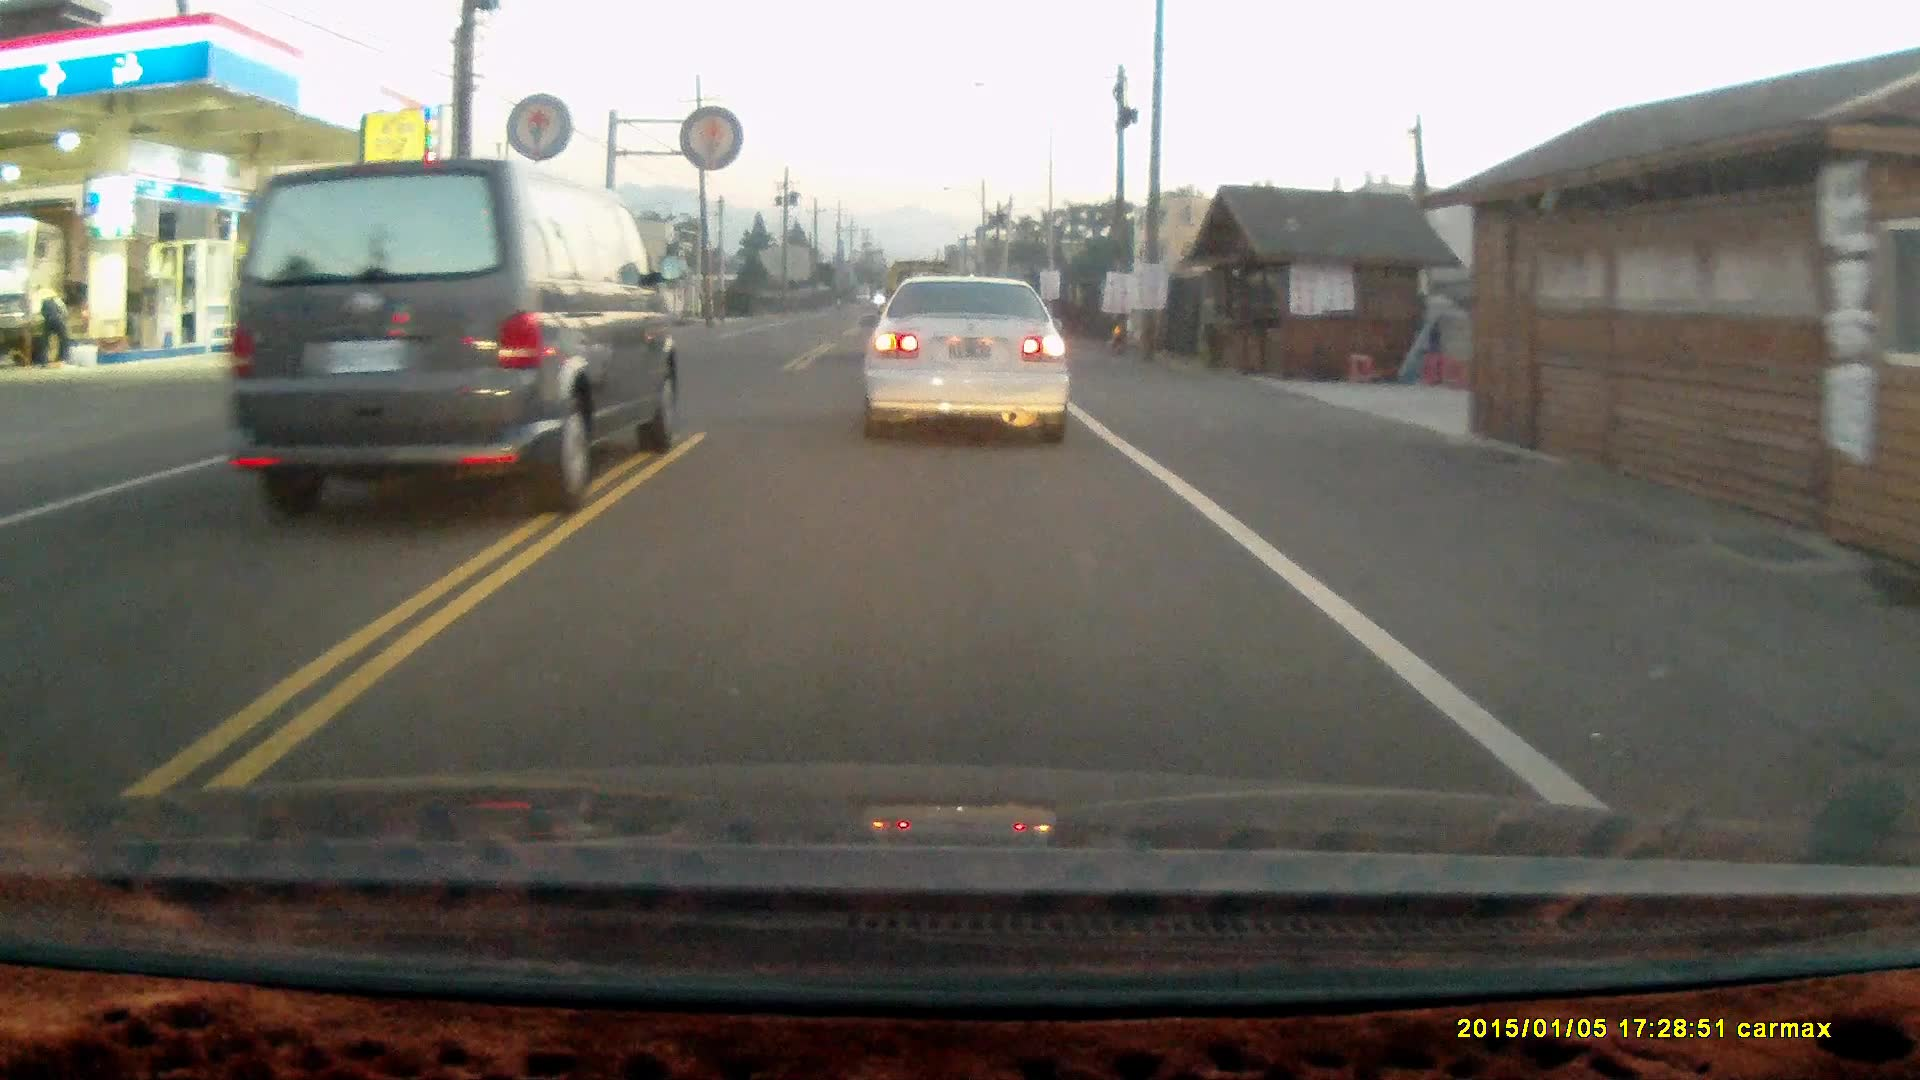pedestrian: (36, 281, 72, 369)
vehicle: (226, 161, 681, 531), (863, 279, 1073, 456), (1, 202, 142, 369)
